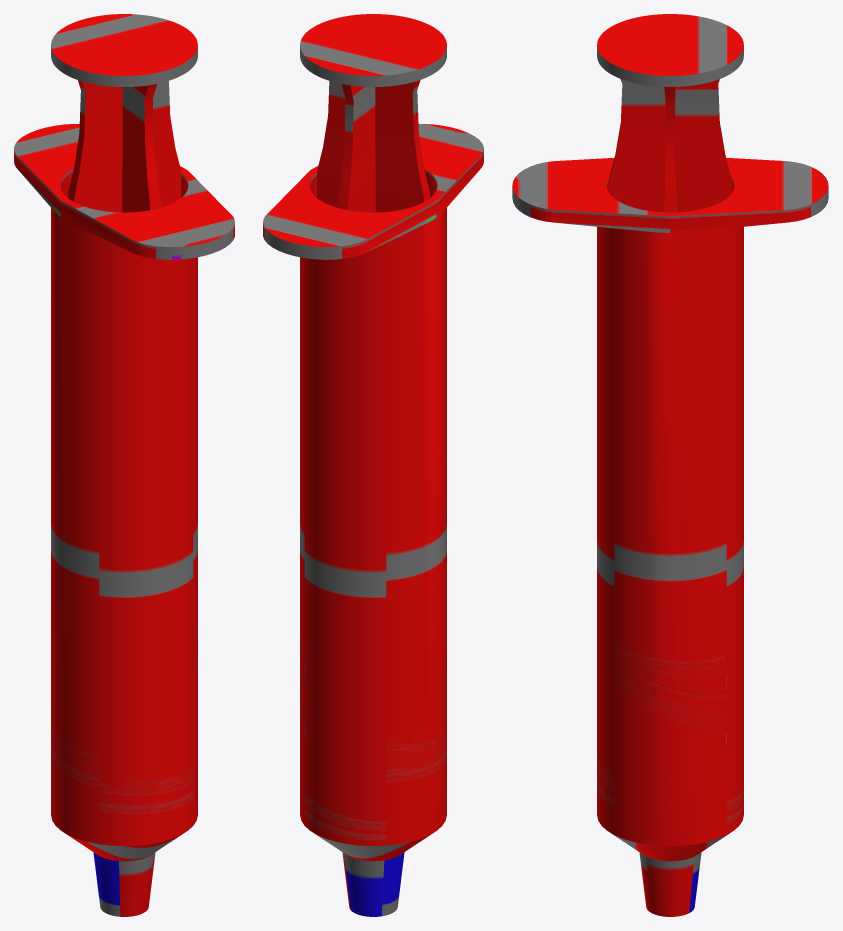
Rendered from Syringe5ml.fbx.
3 views of the same model, side by side, from view 1: azimuth 30°, elevation 25°; view 2: azimuth 150°, elevation 25°; view 3: azimuth 270°, elevation 25° (orthographic).
Parts seen in each view (by area): view 1: syringe, InsideSyringe_1, Cap_2, top; view 2: syringe, InsideSyringe_1, Cap_2, top; view 3: syringe, InsideSyringe_1, Cap_2, top.
Part boxes in pixels (left/top/right/bottom): syringe: left=14, top=124, right=234, bottom=916; InsideSyringe_1: left=68, top=80, right=181, bottom=212; Cap_2: left=51, top=14, right=197, bottom=75; top: left=51, top=46, right=197, bottom=86; syringe: left=263, top=124, right=483, bottom=916; InsideSyringe_1: left=317, top=80, right=429, bottom=212; Cap_2: left=300, top=14, right=446, bottom=75; top: left=300, top=46, right=446, bottom=86; syringe: left=512, top=157, right=828, bottom=916; InsideSyringe_1: left=608, top=79, right=732, bottom=212; Cap_2: left=597, top=14, right=743, bottom=75; top: left=597, top=46, right=743, bottom=86.
Bounding box in the file's own units: 2.4 × 15.54 × 5.17.
